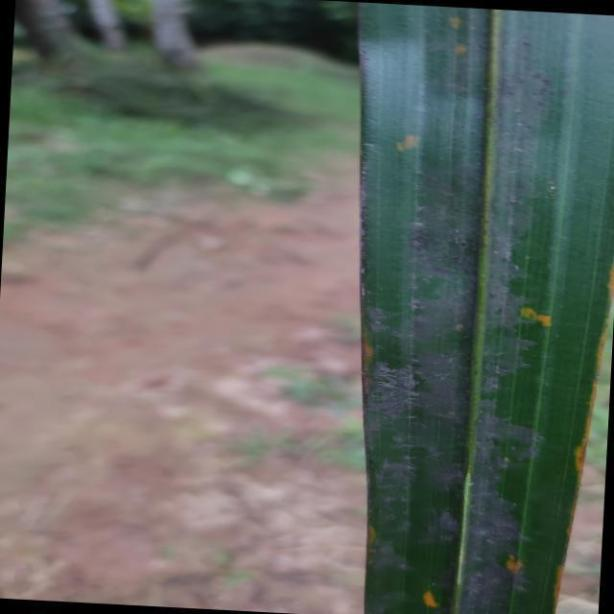Kalium: (352, 0, 614, 614)
